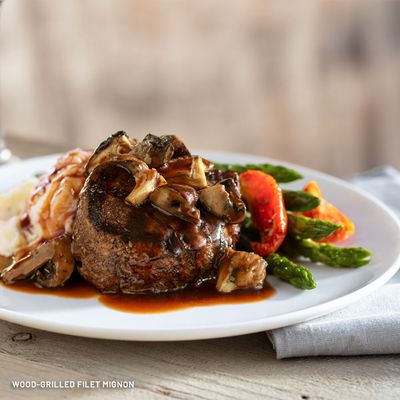curry: (2, 122, 400, 399)
